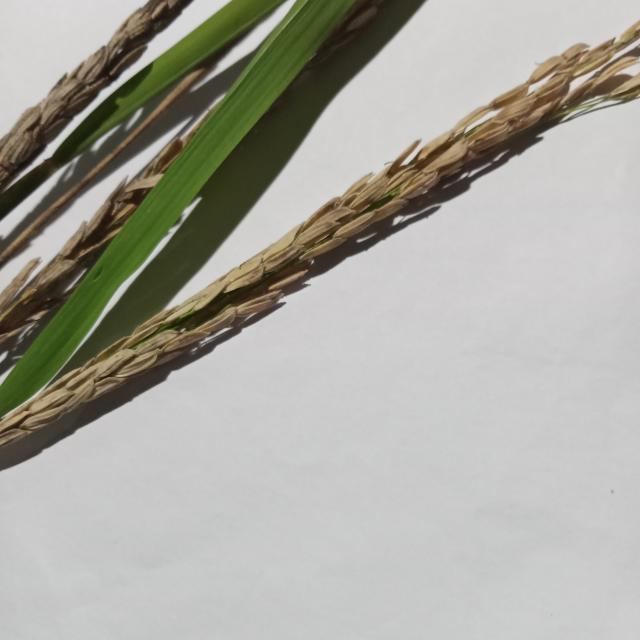Neck_Blast: (0, 16, 640, 454), (0, 0, 193, 195)
